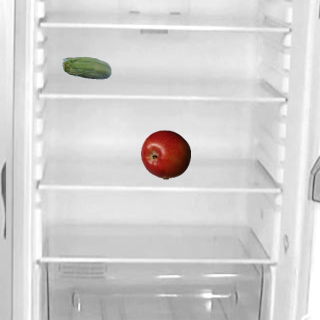Apple Braeburn: (140, 129, 190, 179)
Corn Husk: (61, 44, 111, 94)
